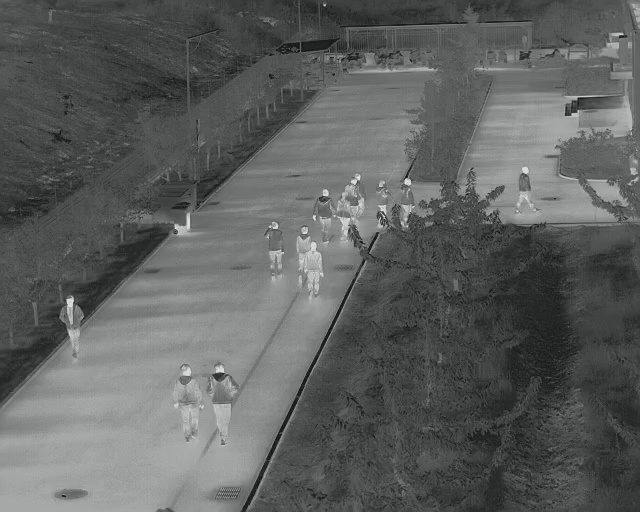person: (175, 365, 203, 443), (208, 363, 234, 446), (299, 226, 322, 300), (60, 295, 84, 360), (263, 220, 283, 280), (516, 167, 537, 213), (345, 173, 365, 221), (316, 191, 334, 243), (375, 180, 391, 226), (400, 177, 414, 226), (337, 191, 350, 242)
